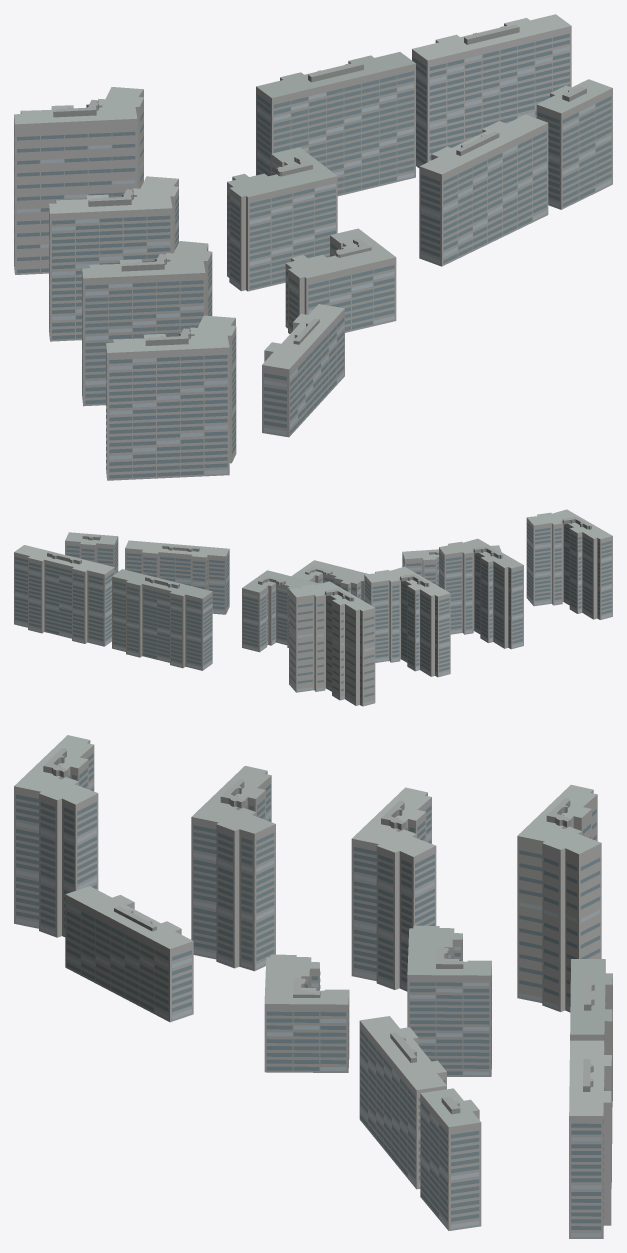
Rendered from apt-a10023922.glb.
3 views of the same model, one above another, from view 1: azimuth 30°, elevation 25°; view 2: azimuth 150°, elevation 25°; view 3: azimuth 270°, elevation 25° (orthographic). The views are drawn at different scales.
Visible parts, largest first — view 1: apt-a10023922; view 2: apt-a10023922; view 3: apt-a10023922.
Part boxes in pixels (x1,y1,x2,y2): apt-a10023922: (14,14,612,480); apt-a10023922: (14,509,612,706); apt-a10023922: (14,735,612,1238).
Size of the model in its own units: 318 by 68 by 219.
